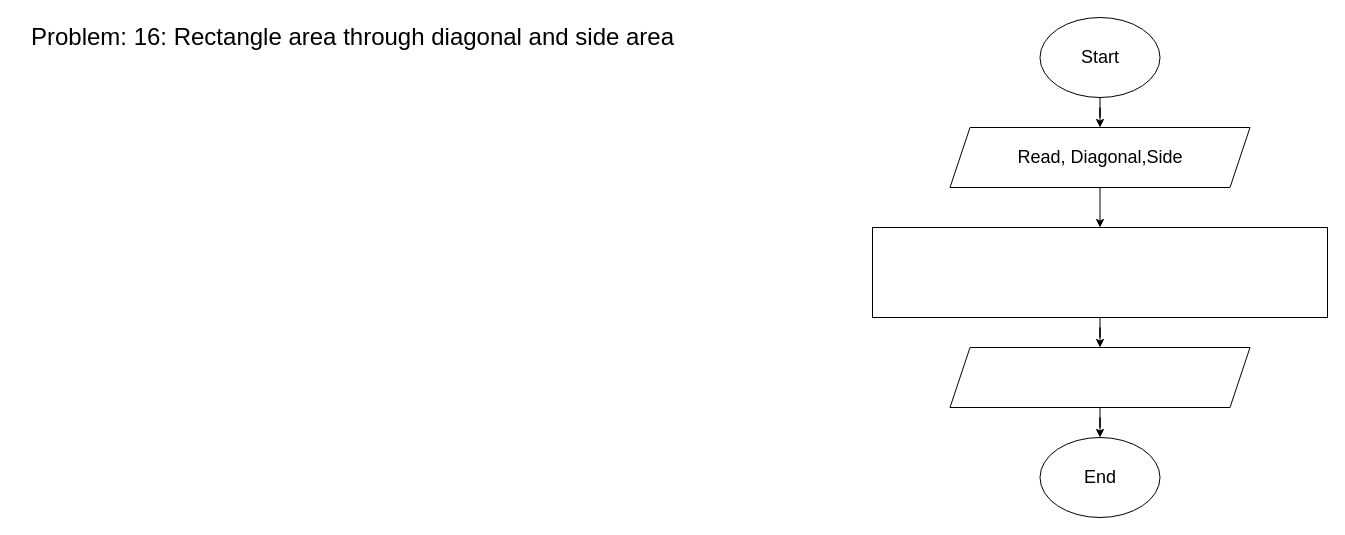
Some shapes in this 1345 by 535 pixel diagram are drawn without their labels. The box of each missing label's shape, as (x1, y1, x2, y2) in pixels:
Area = Side * sqrt( (Diagonal* Diagonal) - (Side * Side)): (872, 226, 1328, 318)
Print Area: (949, 346, 1250, 408)
